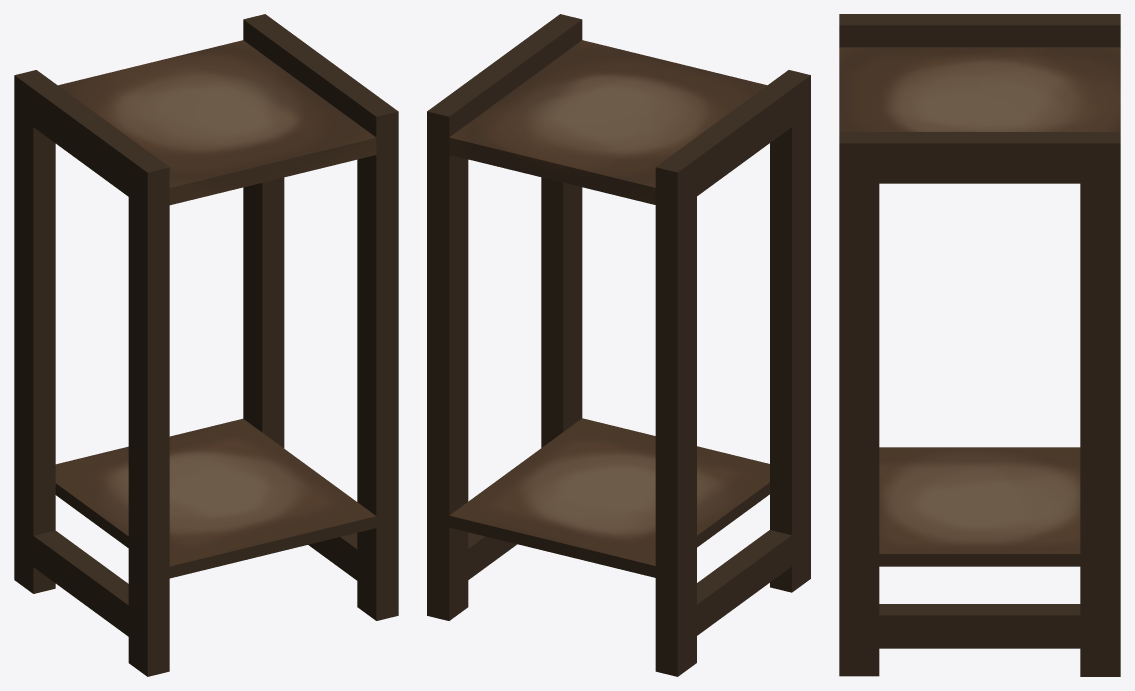
Rendered from PhoneTable.fbx.
The picture shows the model from 3 angles, left to right: view 1: azimuth 30°, elevation 25°; view 2: azimuth 150°, elevation 25°; view 3: azimuth 270°, elevation 25°; orthographic projection. The views are drawn at different scales.
Visible parts, largest first — view 1: Cube; view 2: Cube; view 3: Cube.
Part boxes in pixels (box(x1,y1,x2,y2)): Cube: box(14, 14, 398, 676); Cube: box(427, 14, 810, 676); Cube: box(839, 14, 1120, 676).
Size of the model in its own units: 168 by 324 by 155.
